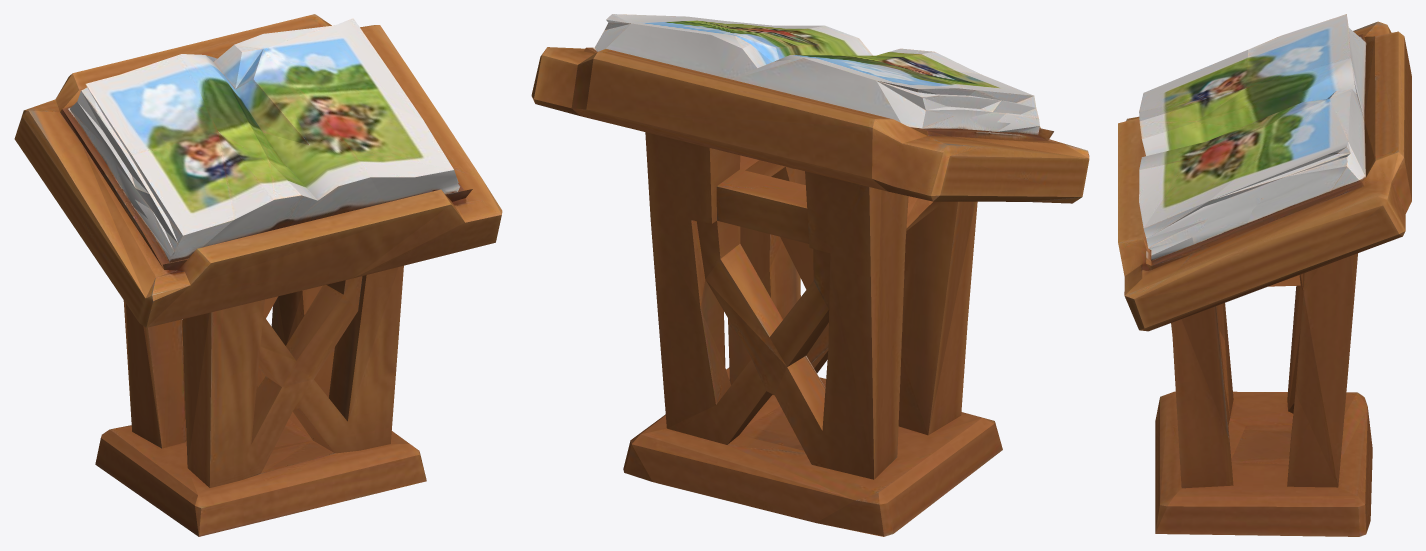
The model's file is atril.glb.
3 renders of one model, left to right at view 1: azimuth 30°, elevation 25°; view 2: azimuth 150°, elevation 25°; view 3: azimuth 270°, elevation 25°, orthographic. The views are drawn at different scales.
Size of the model in its own units: 1.79 by 1.9 by 1.25.
1 material, 1 textured.
